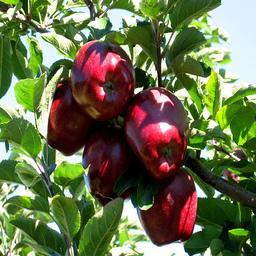apple: (125, 87, 188, 177), (133, 168, 197, 246), (73, 40, 133, 117), (83, 127, 133, 203), (46, 78, 92, 156)
